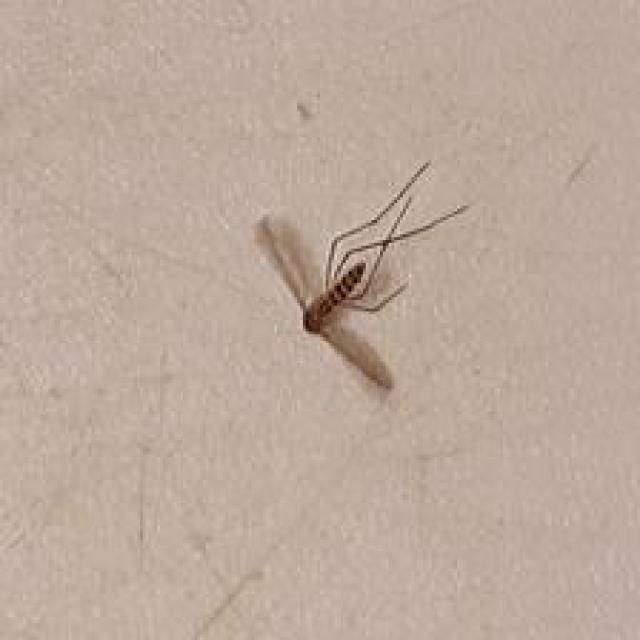Culex: (256, 158, 470, 393)
